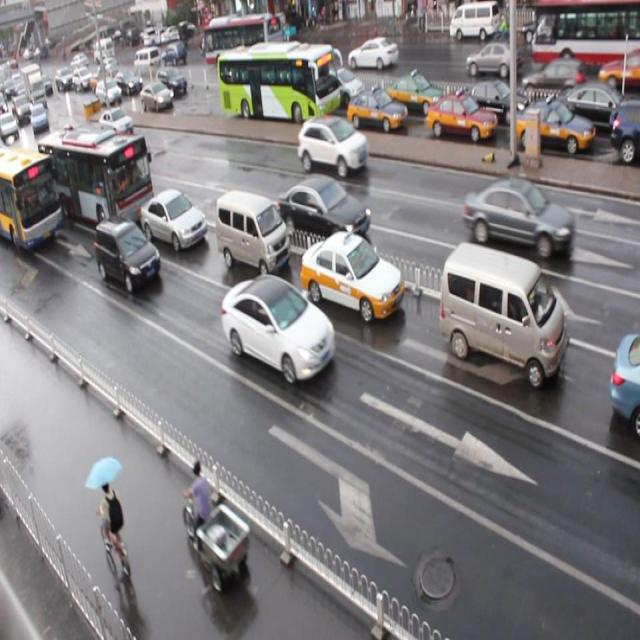car: (221, 270, 334, 388), (300, 229, 403, 321), (465, 177, 575, 263), (276, 172, 371, 250), (95, 215, 161, 295), (547, 83, 640, 136), (514, 101, 594, 160), (297, 115, 368, 178), (140, 188, 208, 252), (426, 91, 498, 145), (608, 330, 640, 433), (462, 79, 528, 127), (345, 89, 407, 134), (384, 71, 446, 115), (321, 65, 368, 107), (610, 100, 640, 161), (22, 160, 61, 204), (100, 106, 135, 138), (140, 82, 173, 110), (157, 68, 187, 97), (112, 70, 142, 96)
truck: (439, 240, 568, 389), (215, 186, 290, 282), (71, 127, 114, 169)
van: (38, 127, 154, 235), (216, 41, 339, 125), (1, 146, 63, 254)
